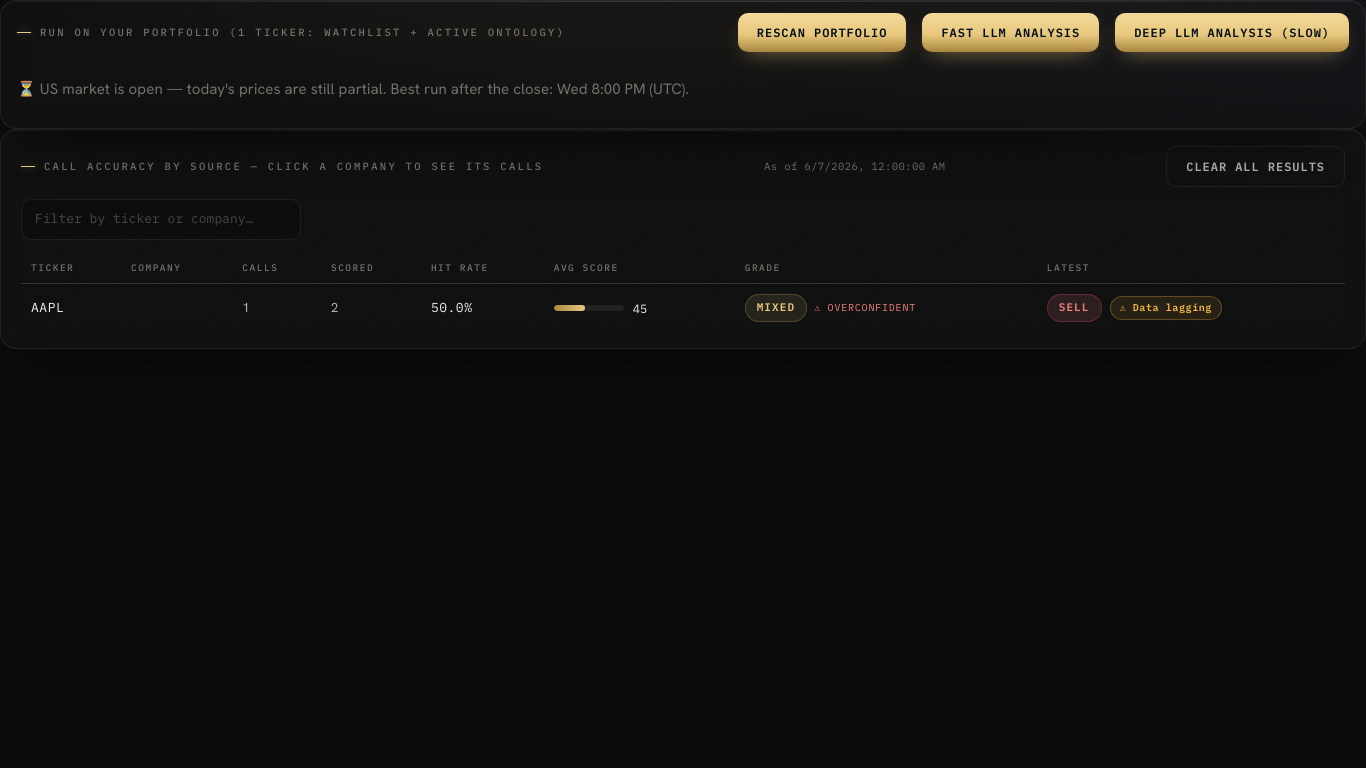
Test: Evaluation page › expands a company inline and collapses it on a second click
The image size is (1366, 768).
Click the text "AAPL".
click(48, 307)  # box 21,284 -> 121,332
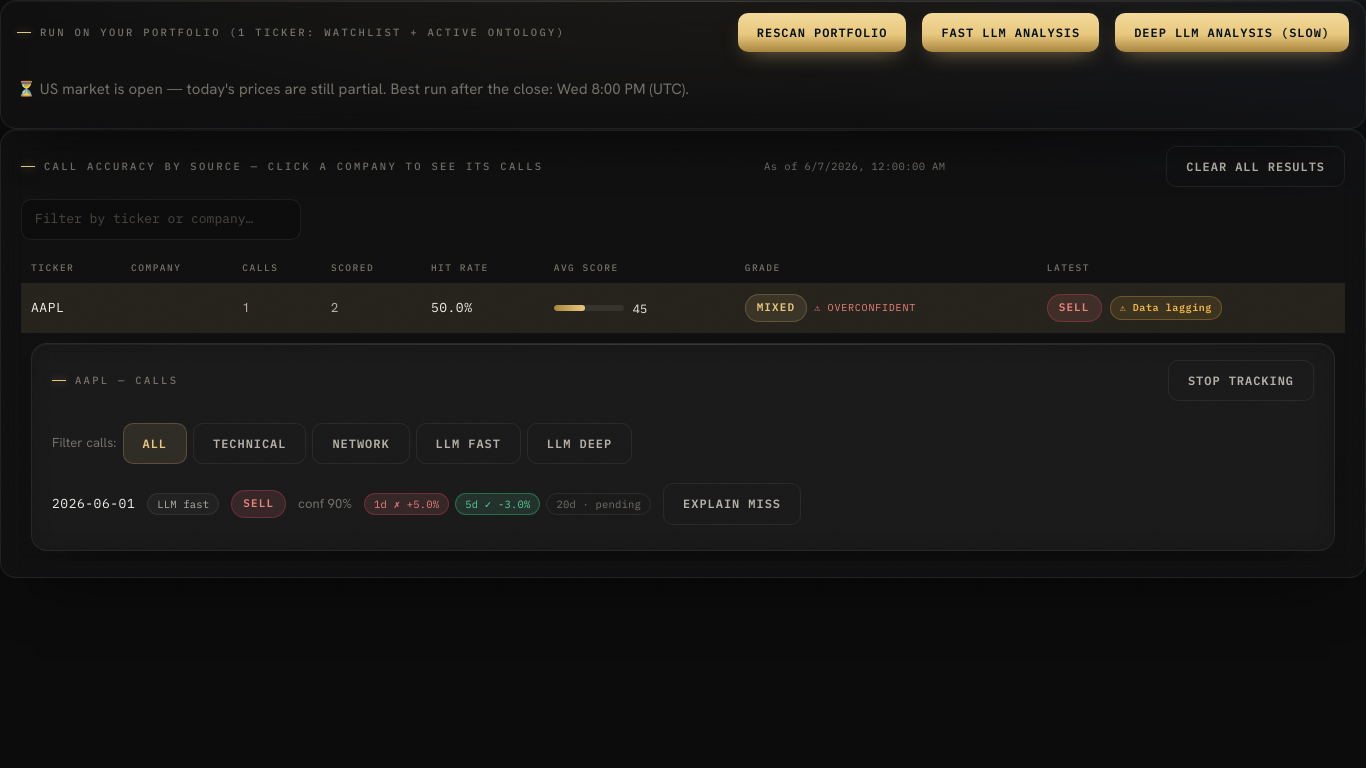
Expected: the text "1d ✗ +5.0%" is shown, 364,492 -> 449,515
Expected: the text "5d ✓ -3.0%" is shown, 455,492 -> 540,515
Expected: the text "20d · pending" is shown, 546,492 -> 651,515
Clicking the same ticker again collapses the accordion row.
Click the text "AAPL".
click(71, 308)  # box 21,284 -> 121,332
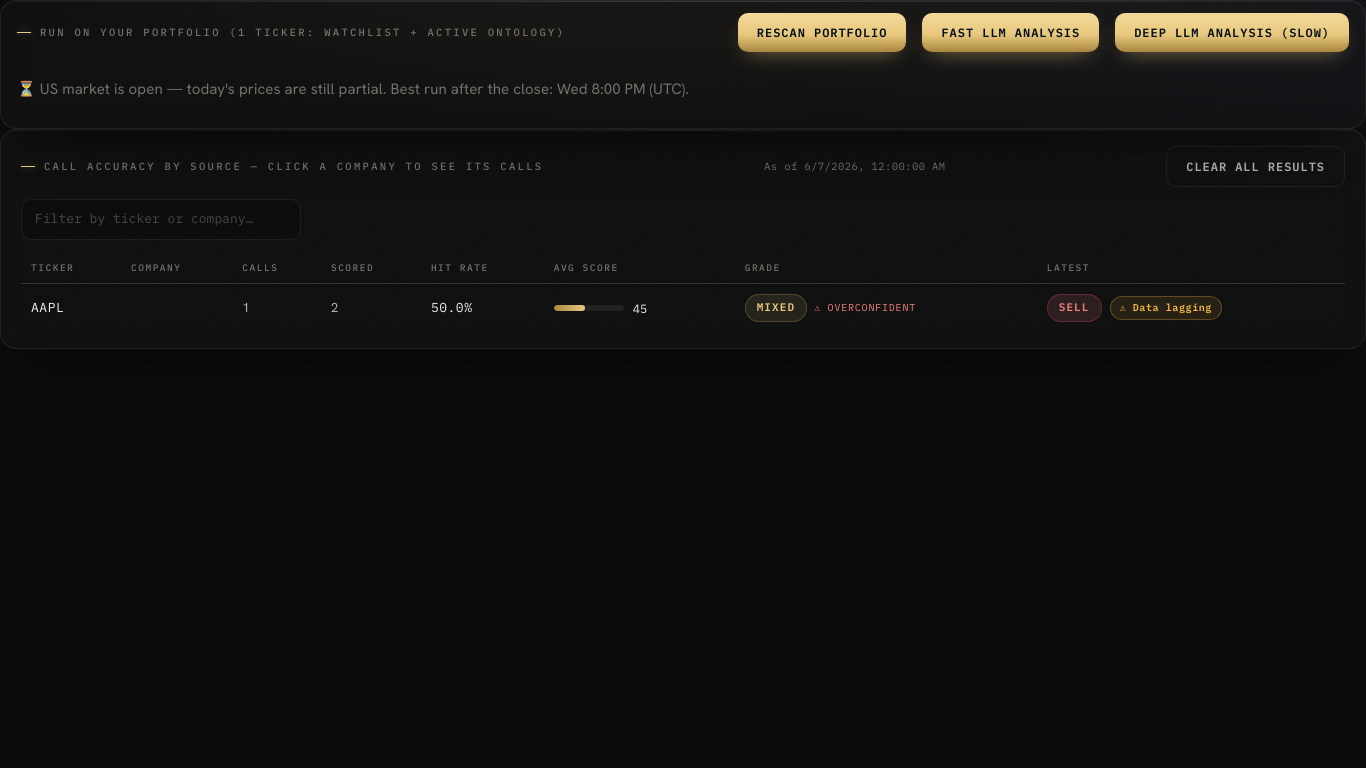
Expected: the text "AAPL — calls" is gone
Expected: the text "1d" is gone
